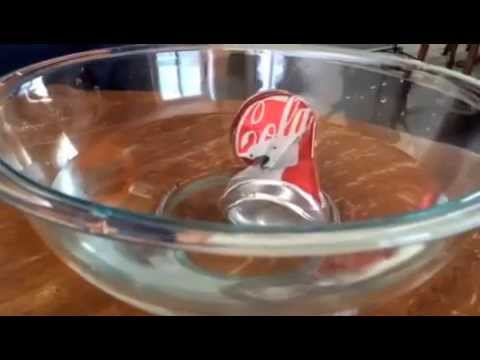can: (216, 88, 329, 234)
